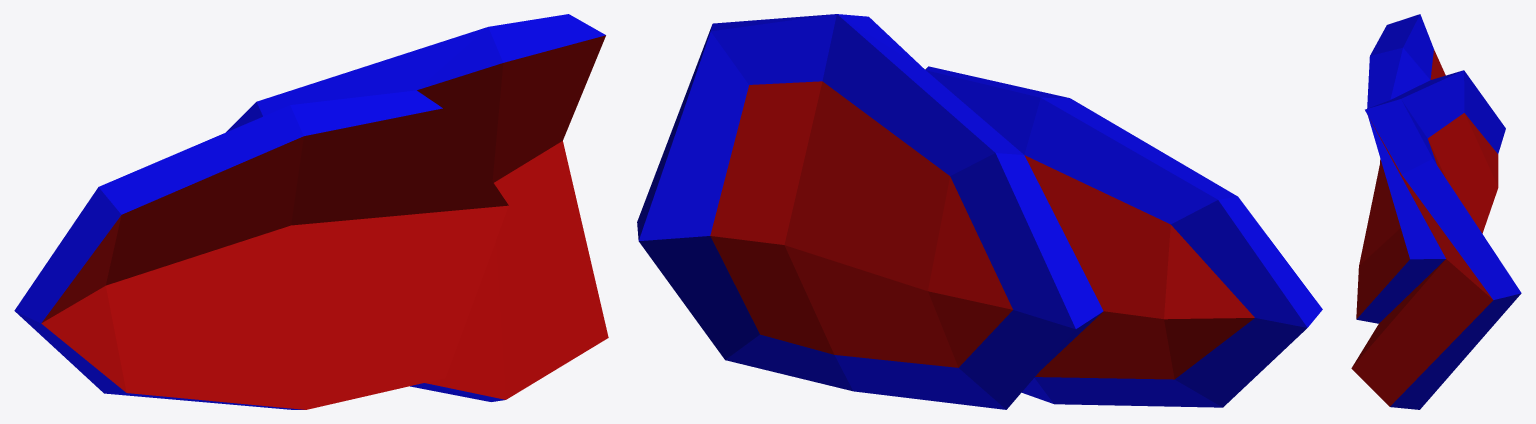
File: Chr_ElbowAttachRight_Static_03.fbx
3 renders of one model, left to right at view 1: azimuth 30°, elevation 25°; view 2: azimuth 150°, elevation 25°; view 3: azimuth 270°, elevation 25°, orthographic. The views are drawn at different scales.
Visible parts, largest first — view 1: Chr_ElbowAttachRight_03; view 2: Chr_ElbowAttachRight_03; view 3: Chr_ElbowAttachRight_03.
Boxes of the visible parts, bbox=[...] form: Chr_ElbowAttachRight_03: bbox=[14, 14, 608, 409]; Chr_ElbowAttachRight_03: bbox=[637, 14, 1322, 409]; Chr_ElbowAttachRight_03: bbox=[1351, 14, 1521, 409].
Size of the model in its own units: 21.64 by 12.74 by 6.77.
